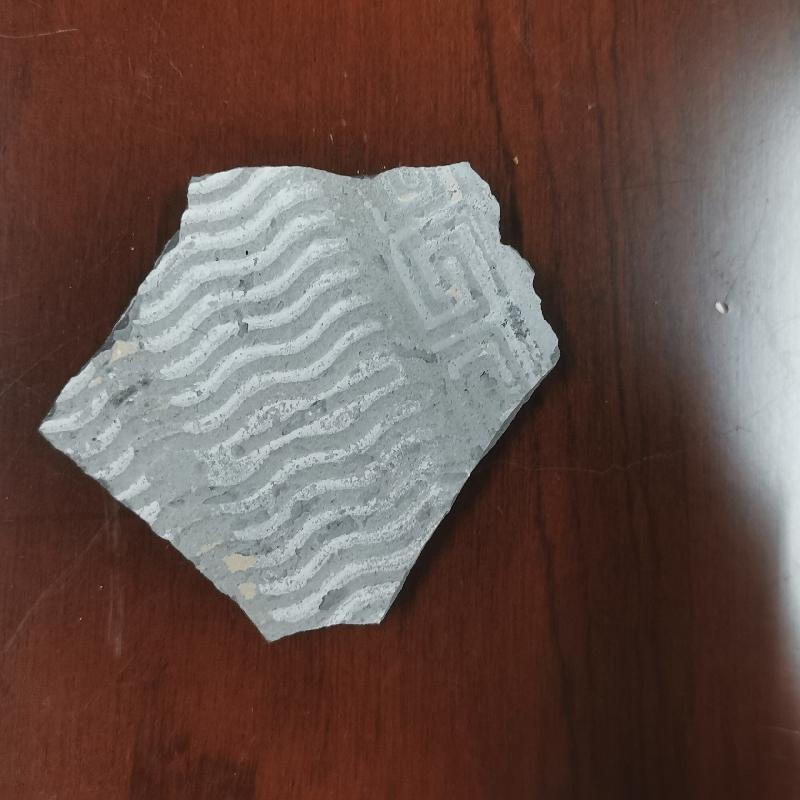tile: (39, 139, 567, 647)
